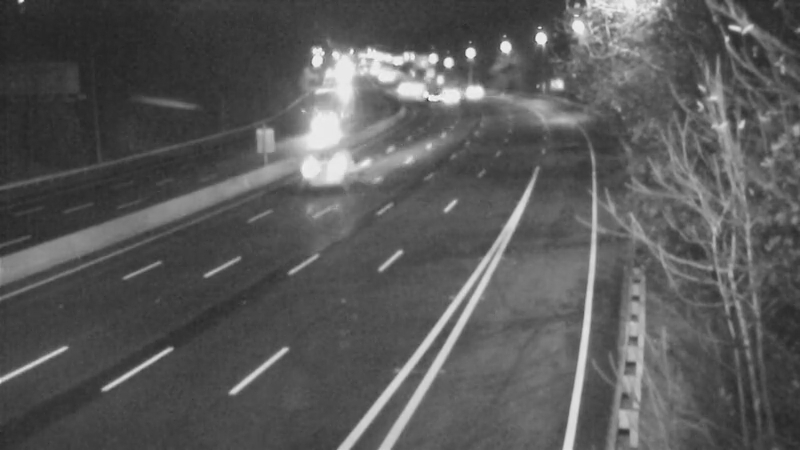vehicle: (291, 129, 371, 209), (422, 74, 472, 124), (450, 65, 500, 115), (293, 107, 343, 157)
